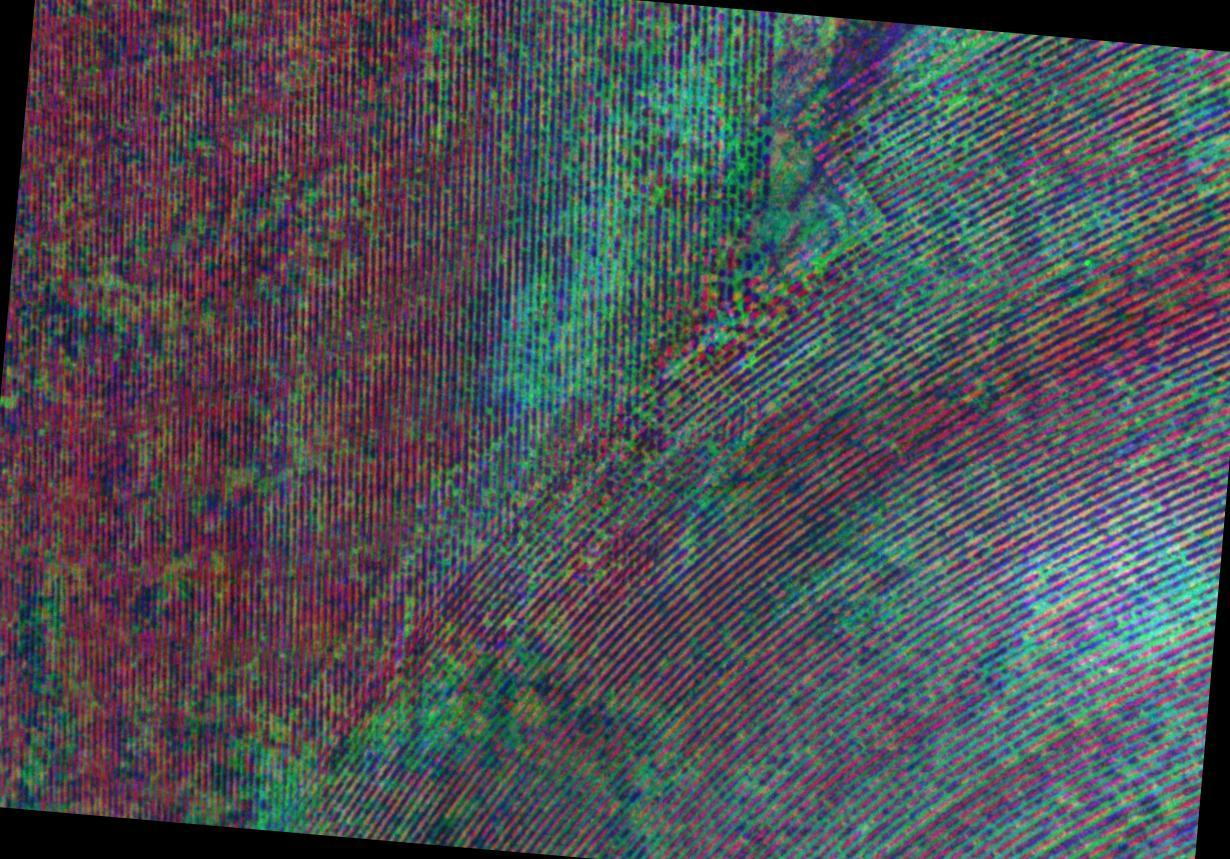dc: (628, 45, 714, 164), (513, 275, 589, 389), (248, 730, 329, 834), (1151, 550, 1215, 655), (903, 20, 990, 90)
